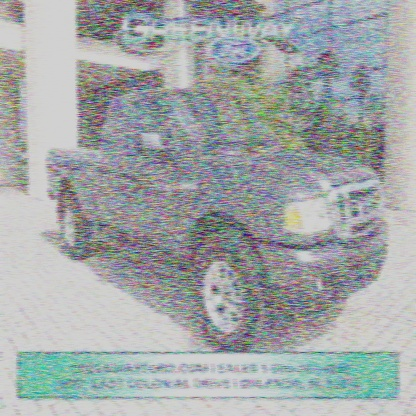Vehicle: (47, 90, 390, 354)
